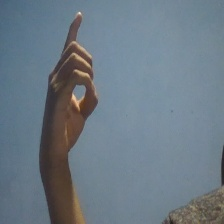D: (34, 10, 101, 159)
